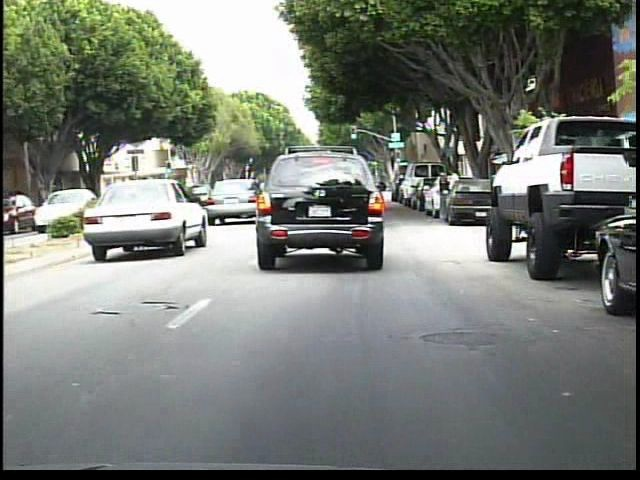person: (446, 166, 463, 218), (437, 173, 454, 224)
